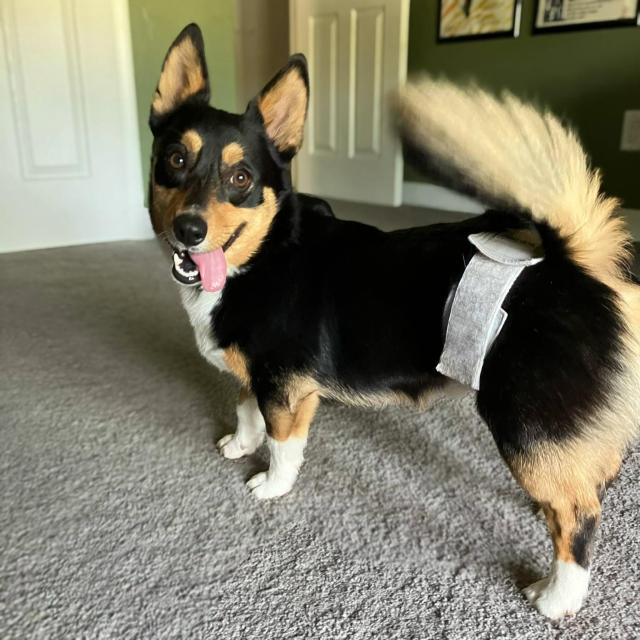corgi_dog: (142, 5, 312, 304)
